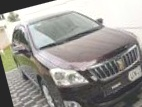car: (3, 0, 142, 107)
